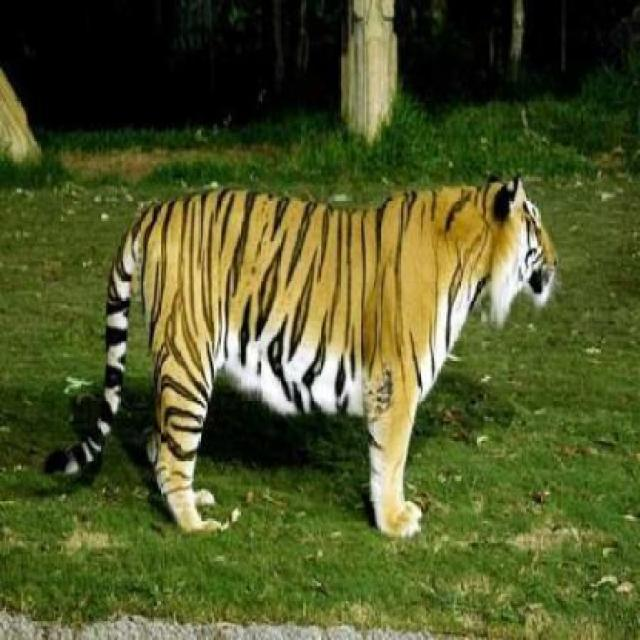tiger: (42, 171, 558, 540)
